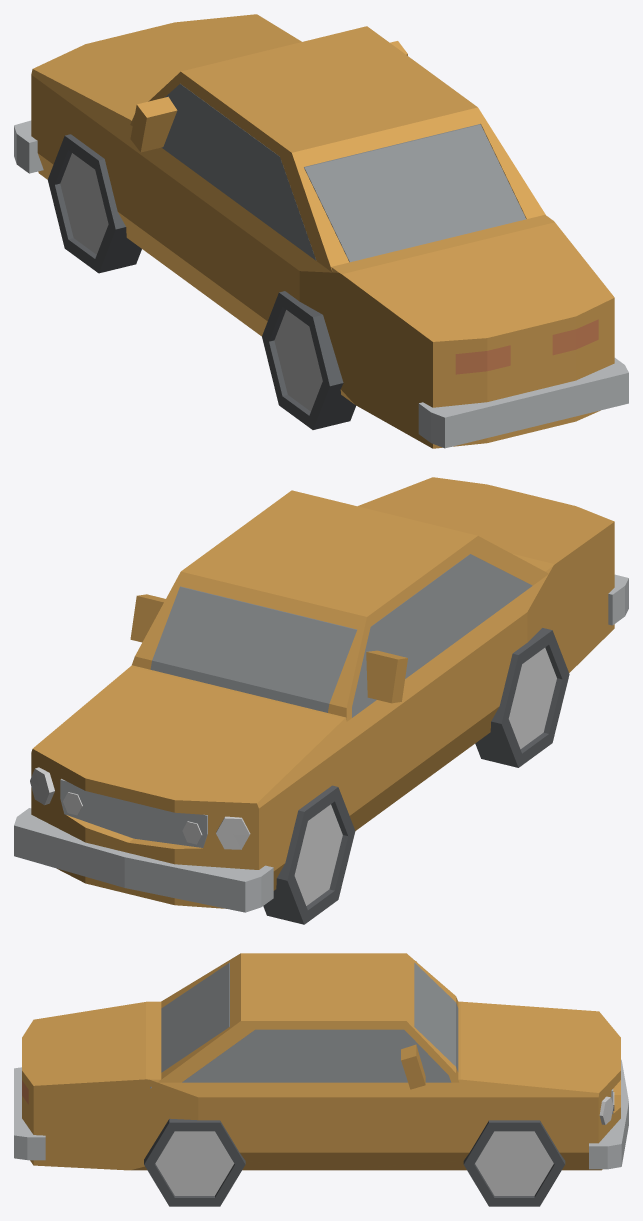
Rendered from Smooth Lappi (9).glb.
3 renders of one model, top to bottom at view 1: azimuth 30°, elevation 25°; view 2: azimuth 150°, elevation 25°; view 3: azimuth 270°, elevation 25°, orthographic. The views are drawn at different scales.
Visible parts, largest first — view 1: Mesh_Mesh_head_geo.001_lambert2SG.001; view 2: Mesh_Mesh_head_geo.001_lambert2SG.001; view 3: Mesh_Mesh_head_geo.001_lambert2SG.001.
Part boxes in pixels (bbox=[...]): Mesh_Mesh_head_geo.001_lambert2SG.001: bbox=[14, 14, 628, 448]; Mesh_Mesh_head_geo.001_lambert2SG.001: bbox=[14, 477, 628, 924]; Mesh_Mesh_head_geo.001_lambert2SG.001: bbox=[14, 953, 628, 1206].
Bounding box in the file's own units: 3.47 × 3 × 9.49.
